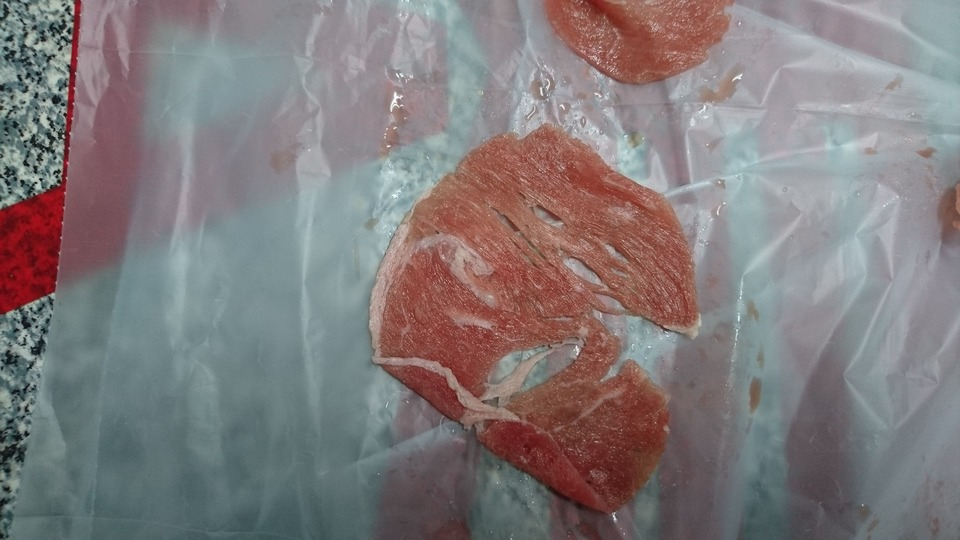restructured meat: (376, 130, 696, 509), (542, 3, 743, 89)
